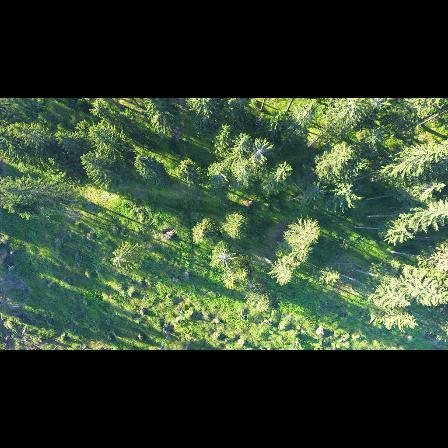Sick: (248, 141, 275, 162), (214, 246, 237, 269), (231, 134, 252, 155)
